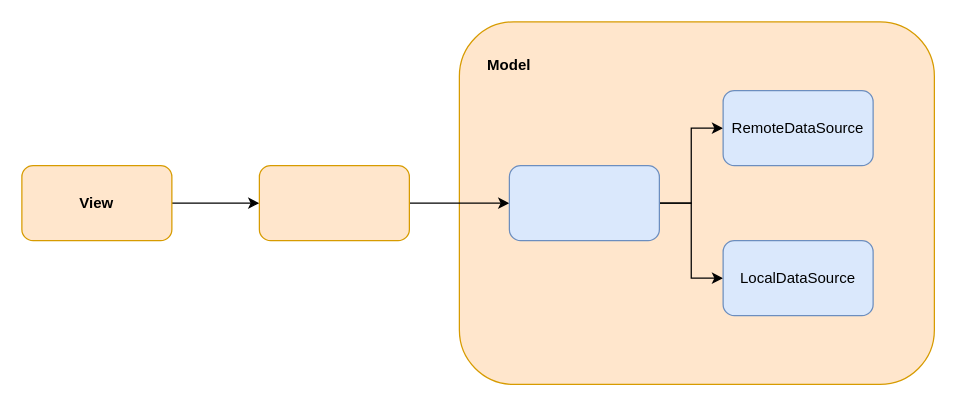
The diagram is 956 pixels wide and 406 high, and some of its shapes have lost their labels. Here are the shapes that lost their labels. From the top down, the centre of each, then its label:
At point 333,202: "ViewModel".
At point 583,202: "Repository".
